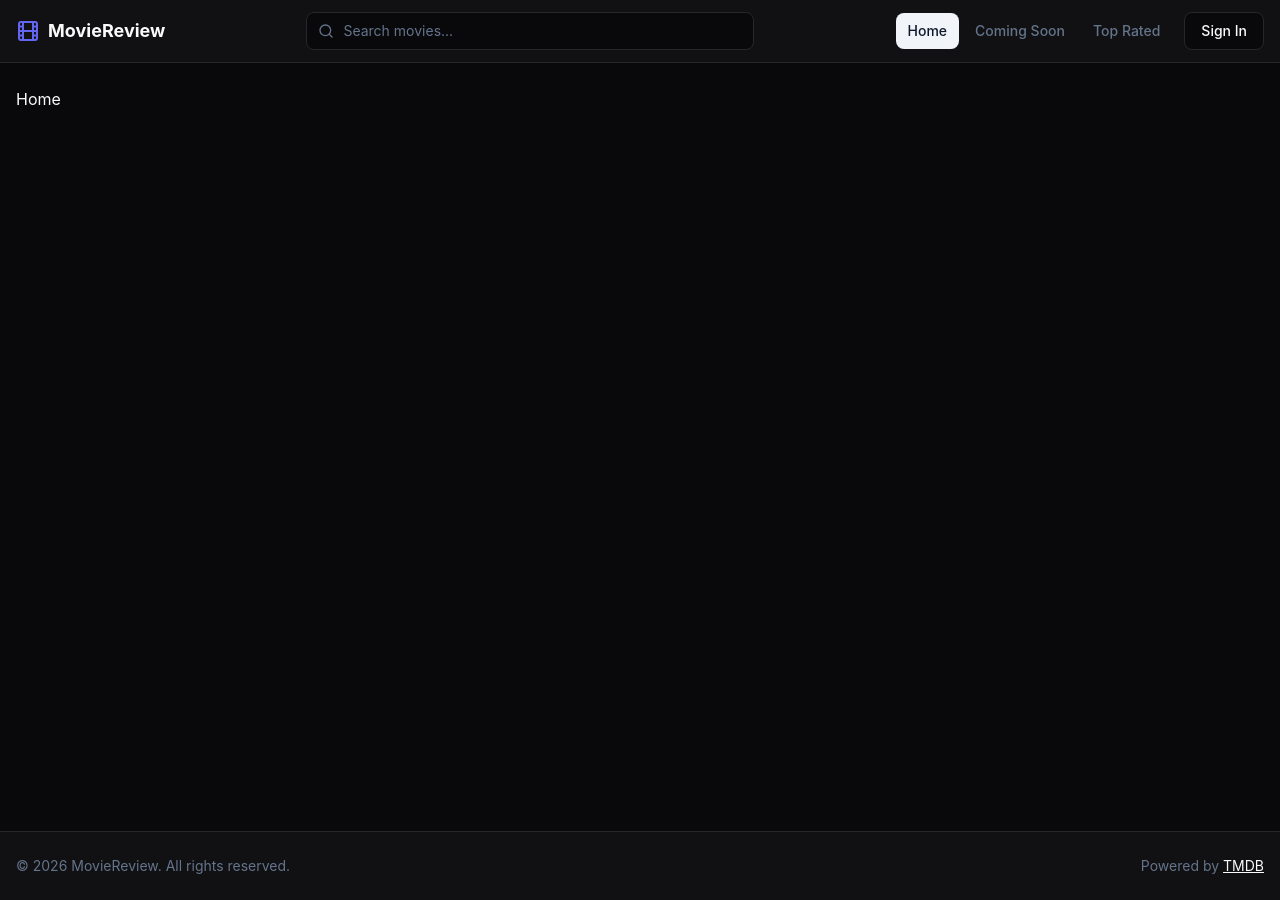
<Navbar/> › when clicking the Coming Soon nav link › navigates to the coming soon page route
Click the link "Coming Soon".
click(1020, 30)  # box [975, 22, 1065, 39]
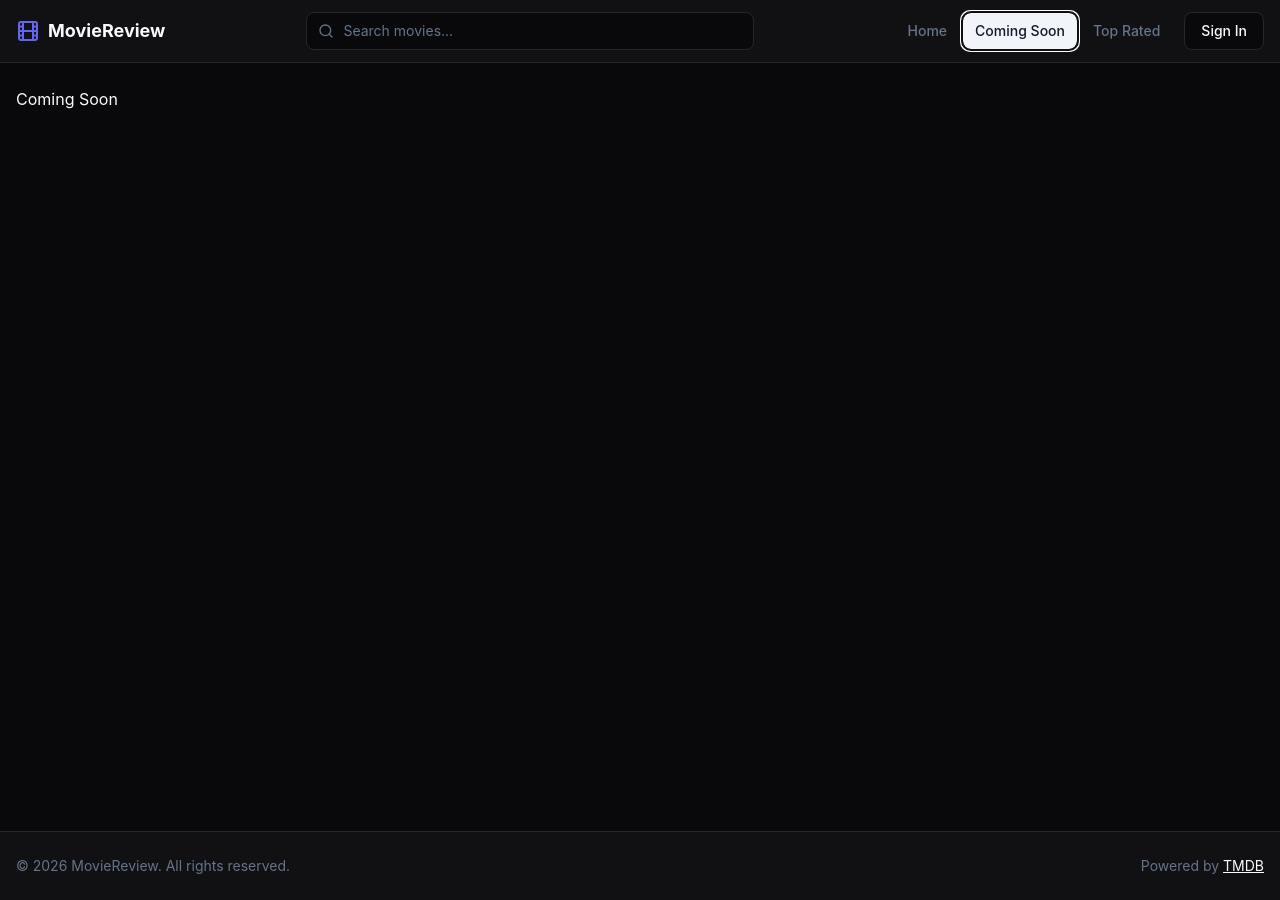
Expected: the heading "Coming Soon" is shown, [16, 89, 118, 109]
